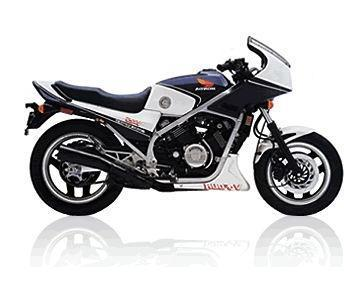motorcycle: (25, 27, 344, 228)
